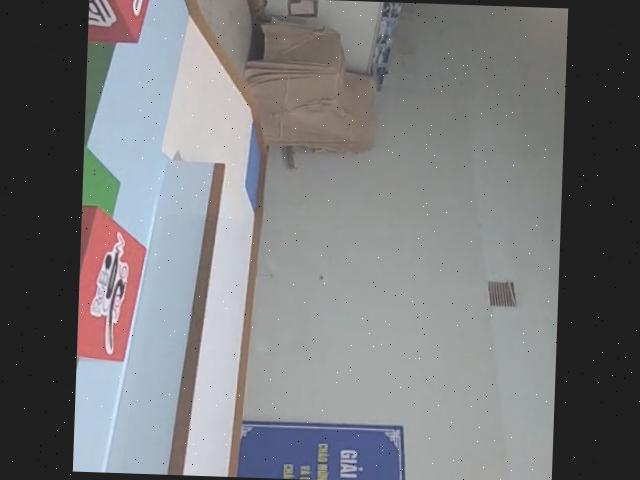R1: (76, 199, 153, 368)
R2 Fake: (86, 0, 153, 47)
